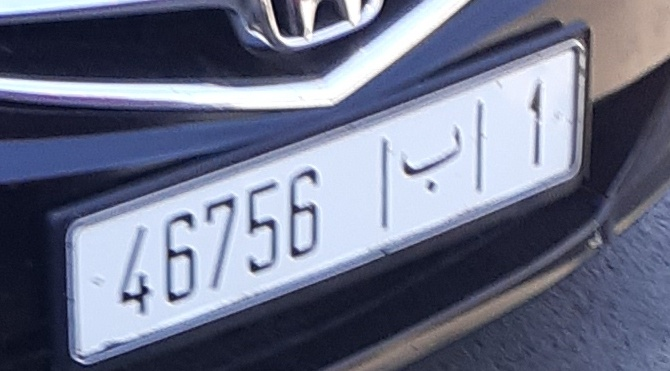1: (517, 74, 554, 166)
4: (108, 223, 156, 323)
5: (244, 173, 281, 275)
6: (285, 162, 326, 261), (161, 208, 201, 305)
7: (201, 189, 244, 296)
b: (393, 122, 468, 197)
